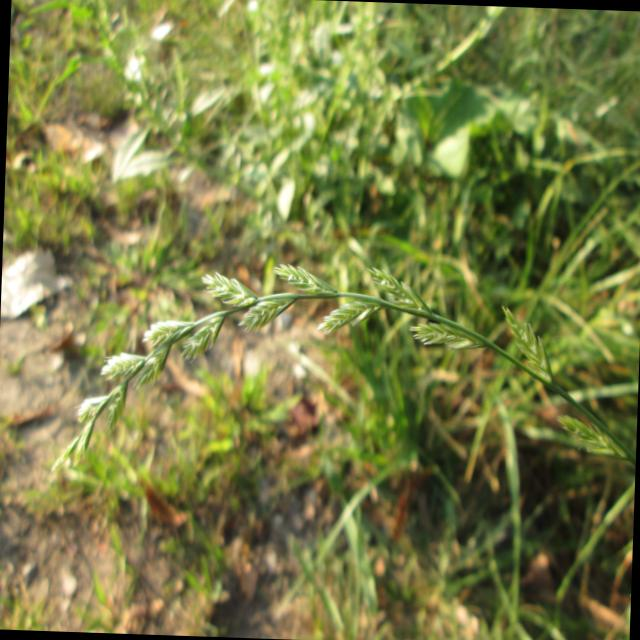Lolium: (47, 247, 638, 502)
